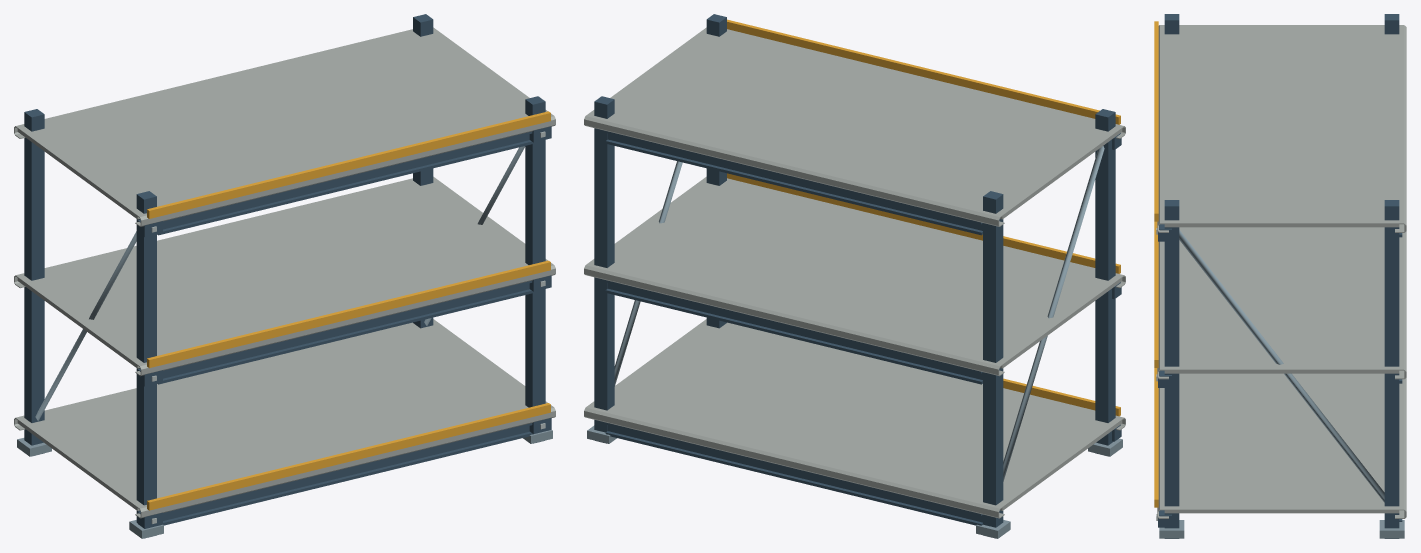
File: ibd-rack-v2.glb
3 views of the same model, side by side, from view 1: azimuth 30°, elevation 25°; view 2: azimuth 150°, elevation 25°; view 3: azimuth 270°, elevation 25° (orthographic).
Parts seen in each view (by area): view 1: rack-folded-zinc-shelves, rack-painted-beams-and-posts, rack-amber-front-guards, rack-original-steel; view 2: rack-folded-zinc-shelves, rack-painted-beams-and-posts, rack-amber-front-guards, rack-original-steel; view 3: rack-folded-zinc-shelves, rack-painted-beams-and-posts, rack-original-steel, rack-amber-front-guards.
Boxes of the visible parts, bbox=[...] form: rack-folded-zinc-shelves: bbox=[14, 27, 555, 518]; rack-painted-beams-and-posts: bbox=[24, 14, 551, 538]; rack-amber-front-guards: bbox=[147, 111, 550, 510]; rack-original-steel: bbox=[17, 146, 552, 538]; rack-folded-zinc-shelves: bbox=[584, 27, 1125, 518]; rack-painted-beams-and-posts: bbox=[594, 14, 1121, 538]; rack-amber-front-guards: bbox=[727, 19, 1120, 416]; rack-original-steel: bbox=[587, 146, 1122, 538]; rack-folded-zinc-shelves: bbox=[1157, 25, 1406, 518]; rack-painted-beams-and-posts: bbox=[1158, 14, 1402, 538]; rack-original-steel: bbox=[1159, 230, 1404, 538]; rack-amber-front-guards: bbox=[1154, 21, 1158, 507].
Size of the model in its own units: 6.4 by 5 by 3.44.
